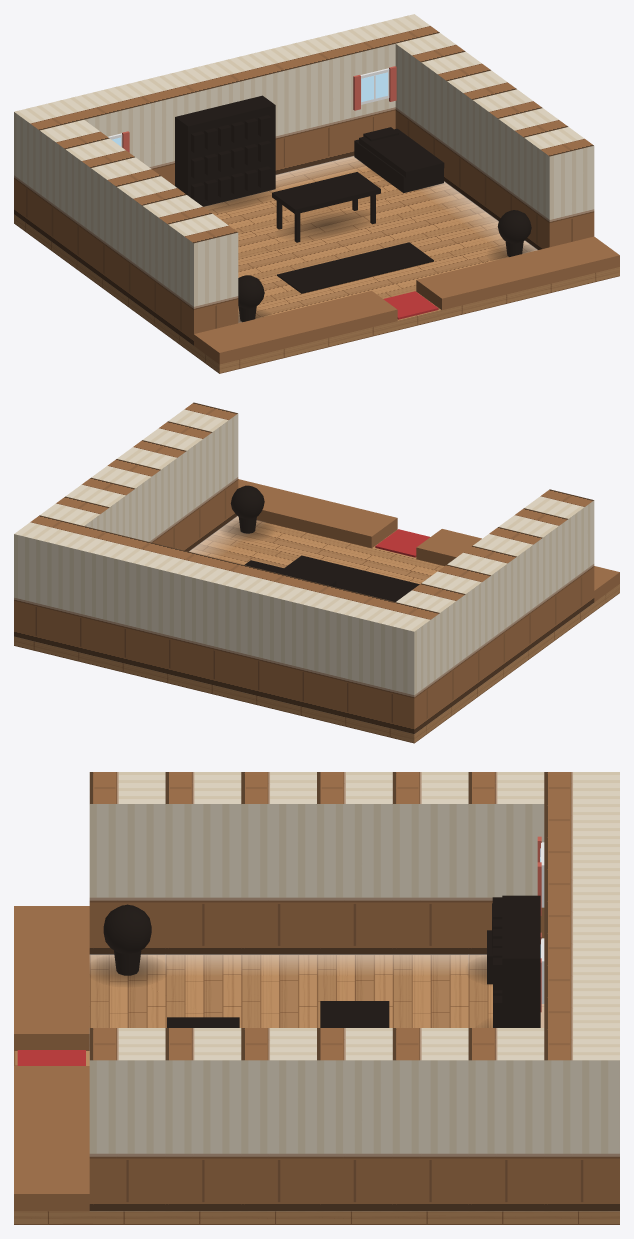
Rendered from casa.glb.
3 views of the same model, one above another, from view 1: azimuth 30°, elevation 25°; view 2: azimuth 150°, elevation 25°; view 3: azimuth 270°, elevation 25° (orthographic). The views are drawn at different scales.
Visible parts, largest first — view 1: malha__semsombra (×37), malha__contorno (×7); view 2: malha__semsombra (×28), malha__contorno (×3); view 3: malha__semsombra (×37), malha__contorno (×4).
Part boxes in pixels (x1,y1,x2,y2): malha__semsombra (×37): (14,14,619,373); malha__contorno (×7): (175,95,531,308); malha__semsombra (×28): (14,402,619,743); malha__contorno (×3): (230,485,419,601); malha__semsombra (×37): (14,772,619,1224); malha__contorno (×4): (103,895,540,1027).
Size of the model in its own units: 9 by 2.4 by 8.
Materials: 32 (9 with a texture image).
